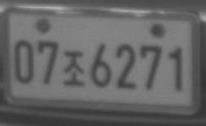0: (13, 39, 35, 83)
1: (166, 46, 189, 92)
2: (114, 42, 137, 88)
6: (91, 43, 112, 87)
7: (139, 44, 163, 90), (36, 41, 59, 85)
조: (62, 50, 86, 87)
